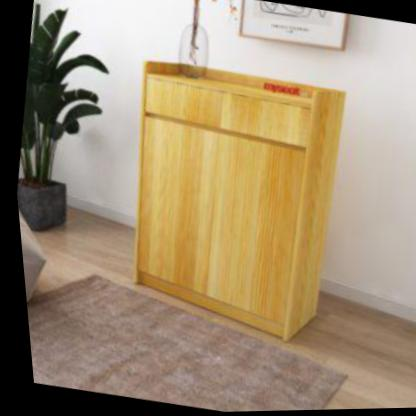Sideboard: (97, 56, 362, 351)
